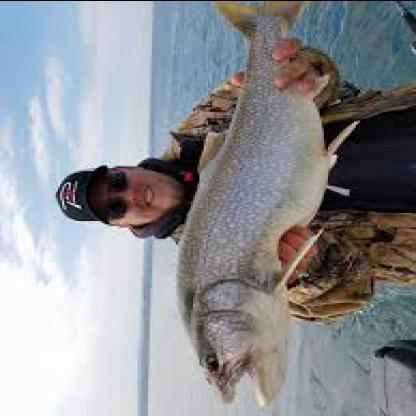fish: (168, 1, 354, 406)
